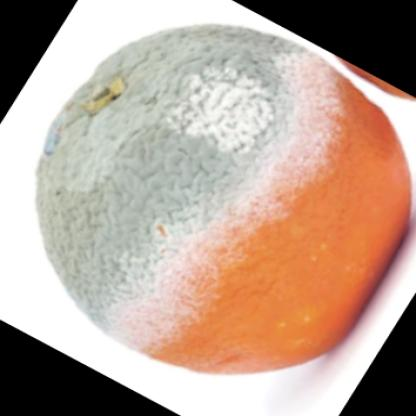rotten: (34, 26, 414, 376)
